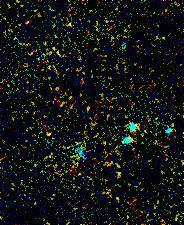star: (33, 119, 63, 149)
